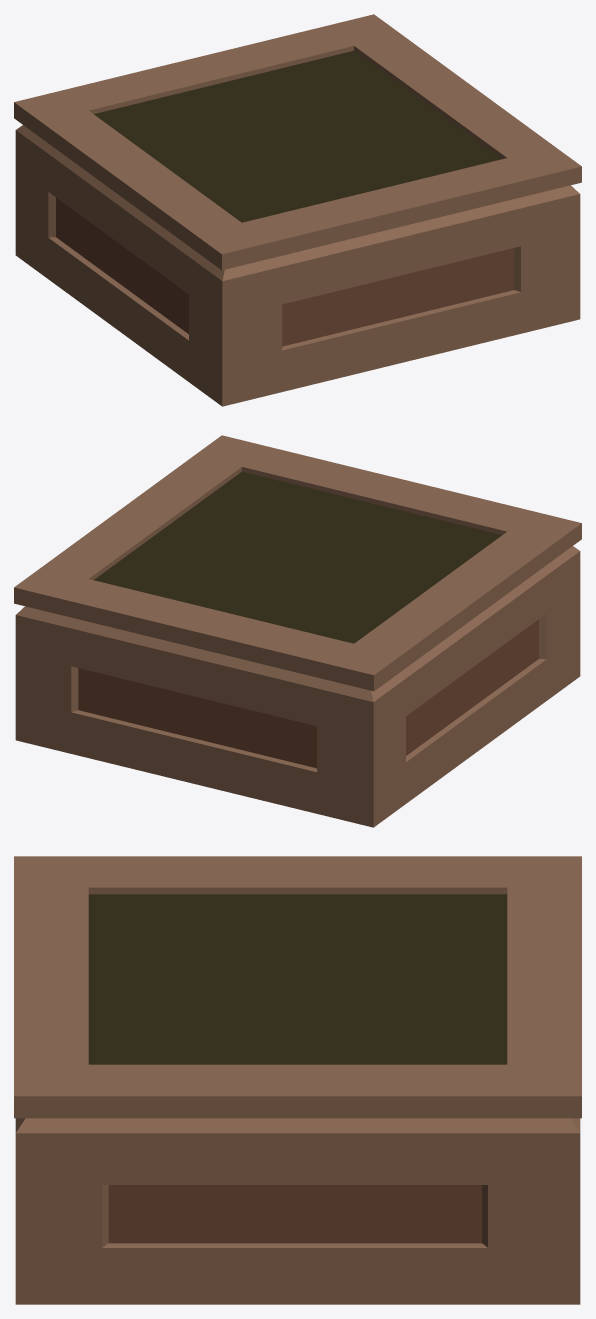
Rendered from SM_Foodbox.fbx.
The picture shows the model from 3 angles, top to bottom: view 1: azimuth 30°, elevation 25°; view 2: azimuth 150°, elevation 25°; view 3: azimuth 270°, elevation 25°; orthographic projection. The views are drawn at different scales.
Parts seen in each view (by area): view 1: crate; view 2: crate; view 3: crate.
Part boxes in pixels (x1=…): crate: x1=14, y1=14, x2=581, y2=406; crate: x1=14, y1=435, x2=581, y2=827; crate: x1=14, y1=856, x2=581, y2=1304.
Bounding box in the file's own units: 90.13 × 36.62 × 90.13.
